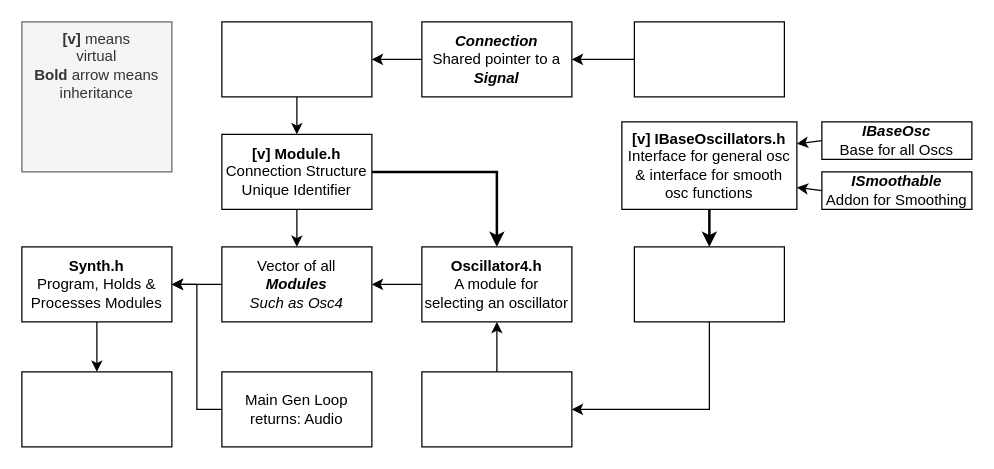
This 994x469 diagram has some shape labels left out. Each missing label, with the centre of its shape:
main.cpp Output Audio & Render: (x=96, y=409)
Signal Audio/Modulation Value & Get/Setters: (x=708, y=59)
SmoothOscillator.h Smooth oscillator implementation: (x=708, y=284)
Unique pointer to IBaseOsc It's oscillator interface: (x=496, y=409)
Vector of input Connections output Connections: (x=296, y=59)
